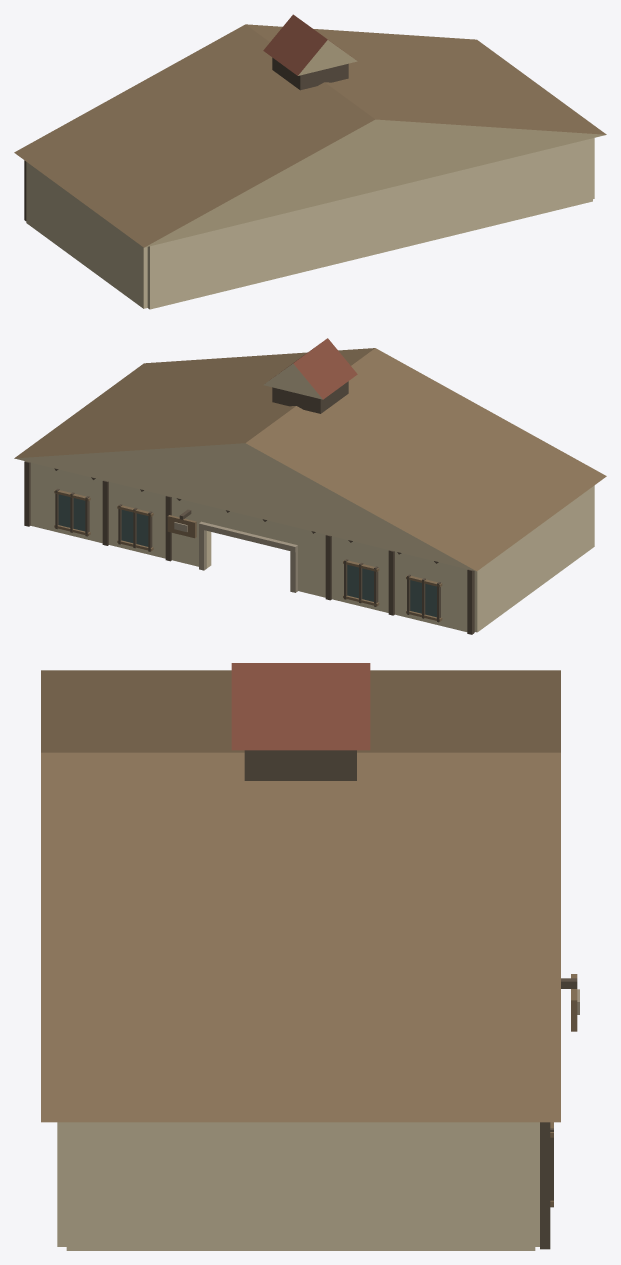
File: TownEx_Stable_Cover.fbx
The picture shows the model from 3 angles, top to bottom: view 1: azimuth 30°, elevation 25°; view 2: azimuth 150°, elevation 25°; view 3: azimuth 270°, elevation 25°; orthographic projection. The views are drawn at different scales.
Parts seen in each view (by area): view 1: TownEx_Stable_Cover; view 2: TownEx_Stable_Cover; view 3: TownEx_Stable_Cover.
Boxes of the visible parts, <box> form: TownEx_Stable_Cover: <box>14,14,606,309</box>; TownEx_Stable_Cover: <box>14,338,606,634</box>; TownEx_Stable_Cover: <box>41,663,579,1250</box>.
Size of the model in its own units: 16.2 by 6.16 by 8.17.
